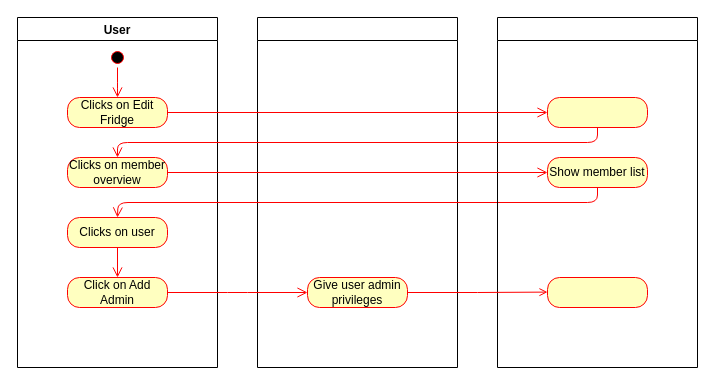
Image size: 715x385. Some labels were removed from this diagram. The box of each missing label's shape, as (x1, y1, x2, y2) in pixels:
Backend: (256, 16, 458, 368)
Show edit view: (546, 96, 648, 128)
Show success: (546, 276, 648, 308)
User interface: (496, 16, 698, 368)
